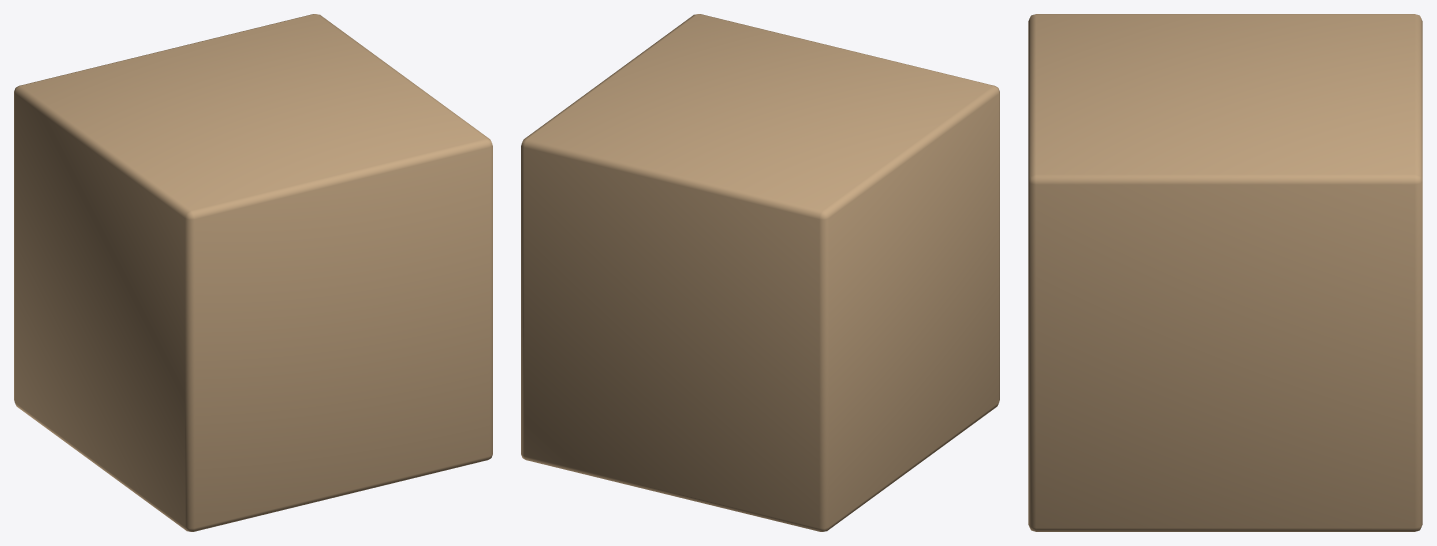
File: wood.glb
The picture shows the model from 3 angles, left to right: view 1: azimuth 30°, elevation 25°; view 2: azimuth 150°, elevation 25°; view 3: azimuth 270°, elevation 25°; orthographic projection. The views are drawn at different scales.
Visible parts, largest first — view 1: wood; view 2: wood; view 3: wood.
Boxes of the visible parts, x1,y1,x2,y2 form: wood: [14, 14, 492, 531]; wood: [521, 14, 999, 531]; wood: [1028, 14, 1422, 531].
Bounding box in the file's own units: 1 × 1 × 1.
